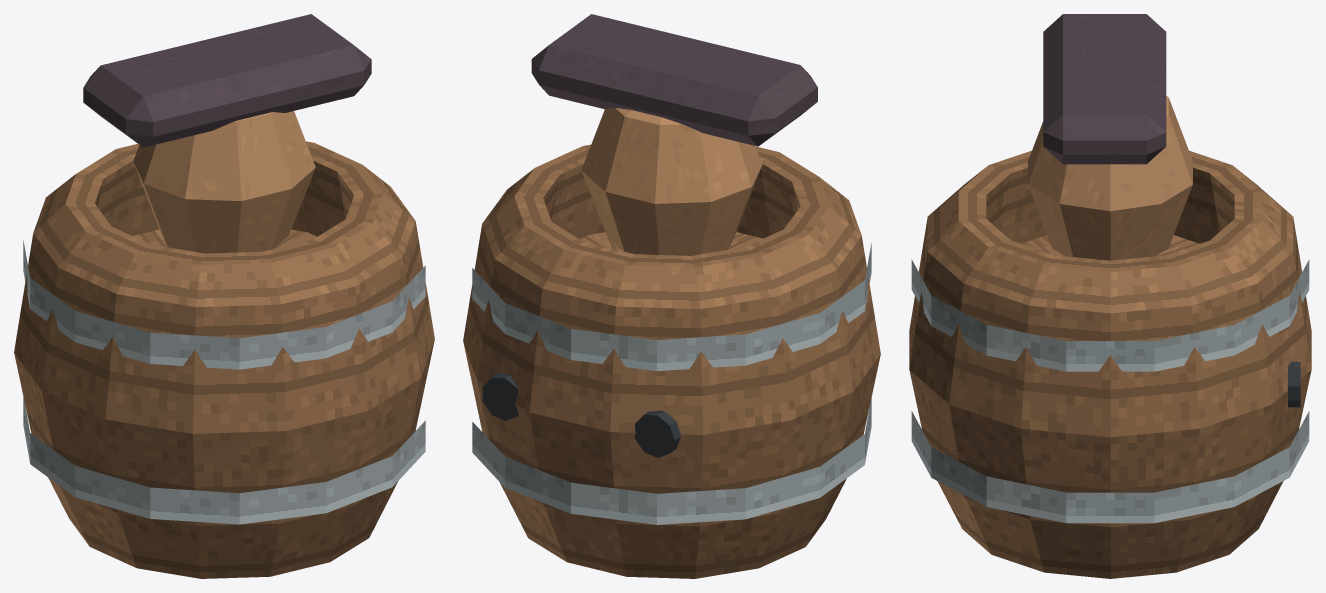
File: poppirate.glb
3 views of the same model, side by side, from view 1: azimuth 30°, elevation 25°; view 2: azimuth 150°, elevation 25°; view 3: azimuth 270°, elevation 25° (orthographic). The views are drawn at different scales.
Visible parts, largest first — view 1: block_toy barrel, block_barrel hoop (×2), block_pirate hat, block_pirate head; view 2: block_toy barrel, block_barrel hoop (×2), block_pirate hat, block_pirate head, block_toy sword slot (×2); view 3: block_toy barrel, block_barrel hoop (×2), block_pirate hat, block_pirate head, block_toy sword slot.
Boxes of the visible parts, bbox=[...] form: block_toy barrel: bbox=[14, 141, 434, 578]; block_barrel hoop (×2): bbox=[23, 240, 425, 524]; block_pirate hat: bbox=[83, 14, 371, 147]; block_pirate head: bbox=[133, 111, 315, 253]; block_toy barrel: bbox=[463, 144, 880, 578]; block_barrel hoop (×2): bbox=[472, 243, 871, 524]; block_pirate hat: bbox=[531, 14, 817, 146]; block_pirate head: bbox=[581, 108, 762, 255]; block_toy sword slot (×2): bbox=[482, 373, 681, 457]; block_toy barrel: bbox=[909, 150, 1311, 578]; block_barrel hoop (×2): bbox=[911, 259, 1309, 523]; block_pirate hat: bbox=[1043, 14, 1166, 164]; block_pirate head: bbox=[1028, 96, 1192, 260]; block_toy sword slot: bbox=[1288, 361, 1300, 407].
Bounding box in the file's own units: 0.3239 × 0.3901 × 0.3158.
1 material, 1 textured.
